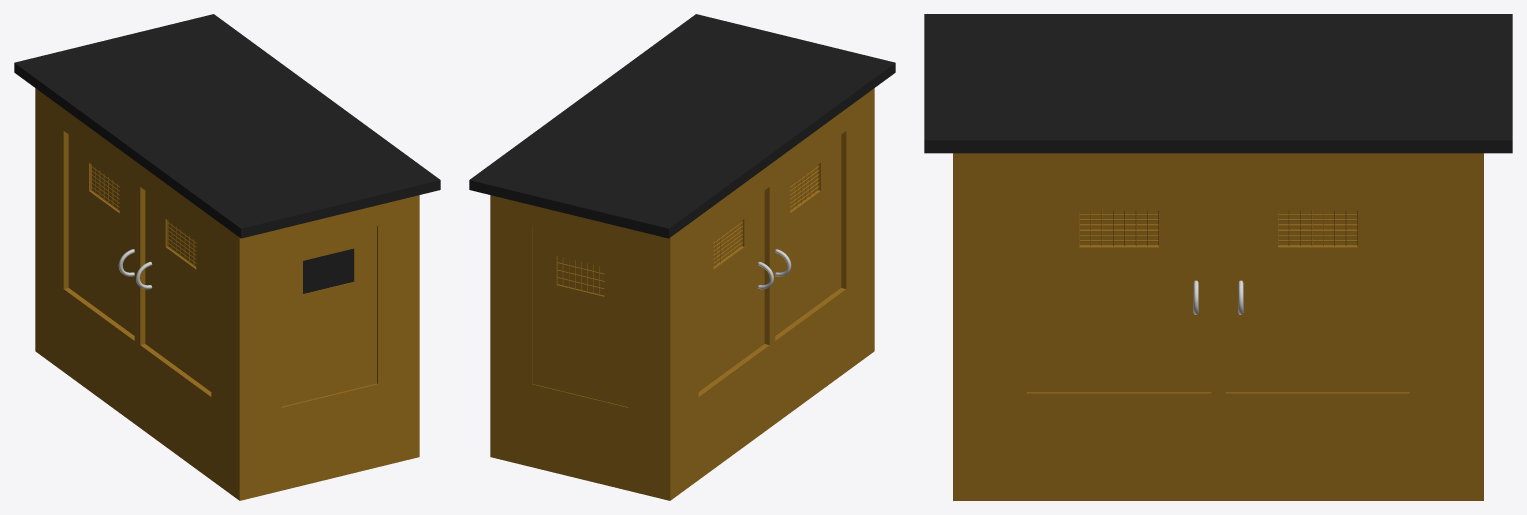
Rendered from smpgnrtxcxc.dae.
The picture shows the model from 3 angles, left to right: view 1: azimuth 30°, elevation 25°; view 2: azimuth 150°, elevation 25°; view 3: azimuth 270°, elevation 25°; orthographic projection. The views are drawn at different scales.
Visible parts, largest first — view 1: Cube_001, Cube_034, Cube_033, Cube_038, Cube_035; view 2: Cube_001, Cube_034, Cube_036, Cube_035, Cube_037; view 3: Cube_001, Cube_034, Cube_035.
Part boxes in pixels (x1,y1,x2,y2): Cube_001: (14, 14, 440, 500); Cube_034: (68, 135, 211, 391); Cube_033: (281, 226, 376, 406); Cube_038: (303, 248, 353, 293); Cube_035: (90, 164, 196, 267); Cube_001: (469, 14, 895, 500); Cube_034: (698, 135, 841, 391); Cube_036: (532, 226, 628, 406); Cube_035: (713, 164, 819, 267); Cube_037: (556, 256, 604, 296); Cube_001: (924, 14, 1512, 500); Cube_034: (1027, 188, 1409, 392); Cube_035: (1079, 210, 1357, 246).
Size of the model in its own units: 4.82 by 9.48 by 6.52.
